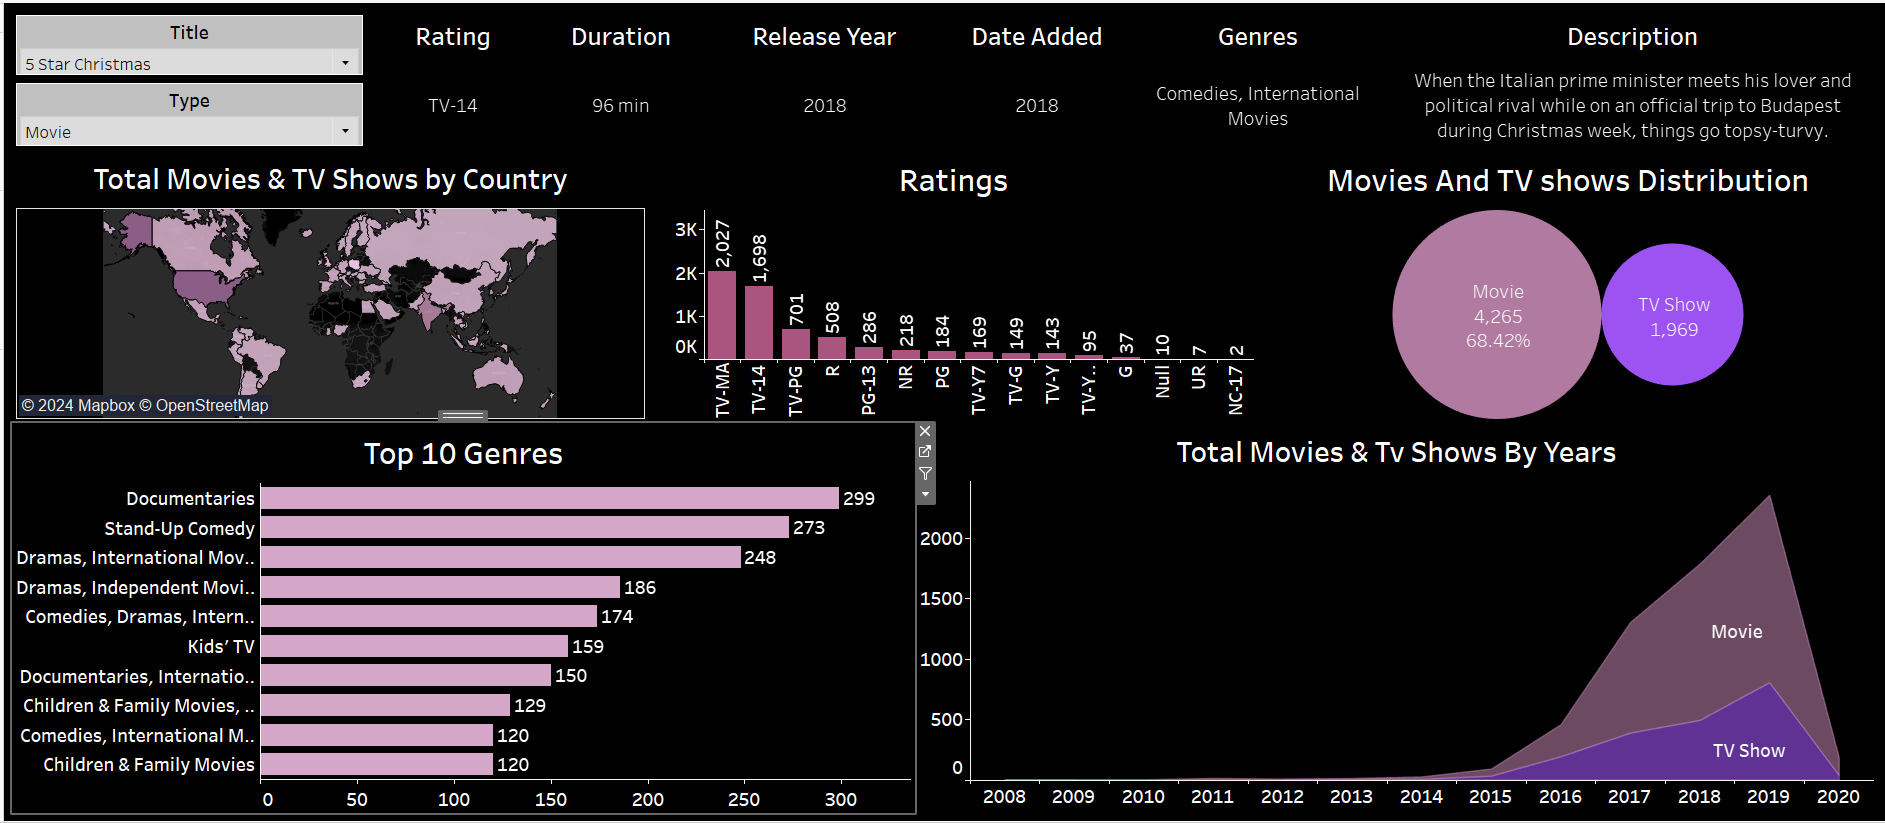

Layout of this report page (visuals, bound fields, positions):
{"tool":"tableau","page":{"name":"Dashboard 1","canvas":[1000,1000],"units":"permille","ordinal":0},"visuals":[{"type":"filter","title":"Description","param":"[federated.0582fii190yb0e1cdvyhk0iuw8k5].[none:title:nk]","box":[4.2,9.8,188.4,83.1]},{"type":"worksheet","title":"Rating","mark":"Automatic","box":[192.7,9.8,91.2,169.9]},{"type":"worksheet","title":"Duration","mark":"Automatic","box":[283.8,9.8,88.1,169.9]},{"type":"worksheet","title":"Release Year","mark":"Automatic","box":[371.9,9.8,128.1,169.9]},{"type":"worksheet","title":"Date Added","mark":"Automatic","box":[500,9.8,97.5,169.9]},{"type":"worksheet","title":"Genres","mark":"Automatic","box":[597.6,9.8,137.2,169.9]},{"type":"worksheet","title":"Description","mark":"Automatic","box":[734.8,9.8,261,169.9]},{"type":"filter","title":"Description","param":"[federated.0582fii190yb0e1cdvyhk0iuw8k5].[none:type:nk]","box":[4.2,92.9,188.4,86.8]},{"type":"worksheet","title":"Total Movies And Tv shows by Country","mark":"Multipolygon","box":[4.2,179.7,338.4,333.7]},{"type":"worksheet","title":"Ratings","mark":"Automatic","rows":["show_id"],"cols":["rating"],"box":[342.6,179.7,323.8,333.7]},{"type":"worksheet","title":"Movies And TV shows Distribution","mark":"Circle","box":[666.5,179.7,329.3,333.7]},{"type":"worksheet","title":"Top 10 Genres","mark":"Automatic","rows":["listed_in"],"cols":["show_id"],"box":[4.2,513.5,479.8,476.8]},{"type":"worksheet","title":"Total Movies And Tv Shows By Years","mark":"Area","rows":["show_id"],"cols":["date_added"],"box":[484.1,513.5,511.7,476.8]}]}

Visuals, with their boxes on the dashboard's canvas, which has no fixed pixel size, in thousandths of its width and height (x1, y1, x2, y2). These are canvas units, not pixel positions in the 1885x823 screenshot, which may show the page scaled, cropped or inside an application window:
"Description" filter: crop(4, 10, 193, 93)
"Rating" worksheet: crop(193, 10, 284, 180)
"Duration" worksheet: crop(284, 10, 372, 180)
"Release Year" worksheet: crop(372, 10, 500, 180)
"Date Added" worksheet: crop(500, 10, 598, 180)
"Genres" worksheet: crop(598, 10, 735, 180)
"Description" worksheet: crop(735, 10, 996, 180)
"Description" filter: crop(4, 93, 193, 180)
"Total Movies And Tv shows by Country" worksheet (Multipolygon marks): crop(4, 180, 343, 513)
"Ratings" worksheet: crop(343, 180, 666, 513)
"Movies And TV shows Distribution" worksheet (Circle marks): crop(666, 180, 996, 513)
"Top 10 Genres" worksheet: crop(4, 514, 484, 990)
"Total Movies And Tv Shows By Years" worksheet (Area marks): crop(484, 514, 996, 990)
